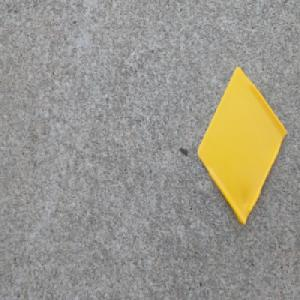PlasticPart: (195, 65, 287, 228)
